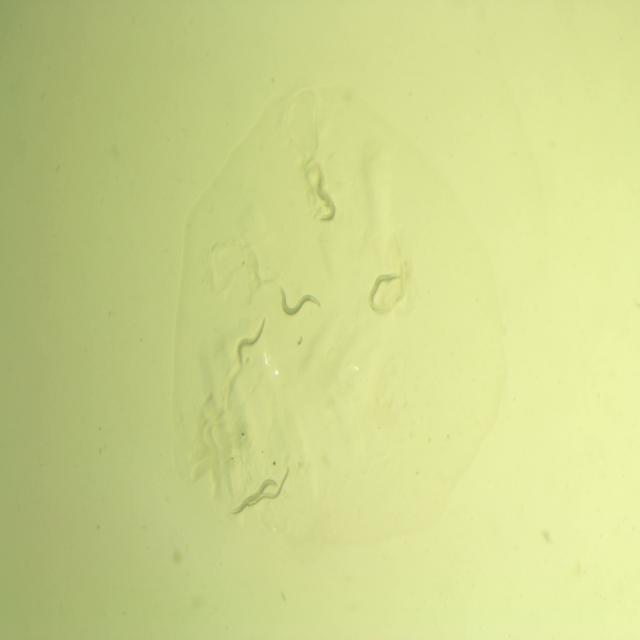worm: (244, 462, 296, 510), (233, 311, 268, 373), (229, 476, 280, 517), (307, 173, 343, 230), (276, 281, 324, 322), (366, 270, 404, 318)
